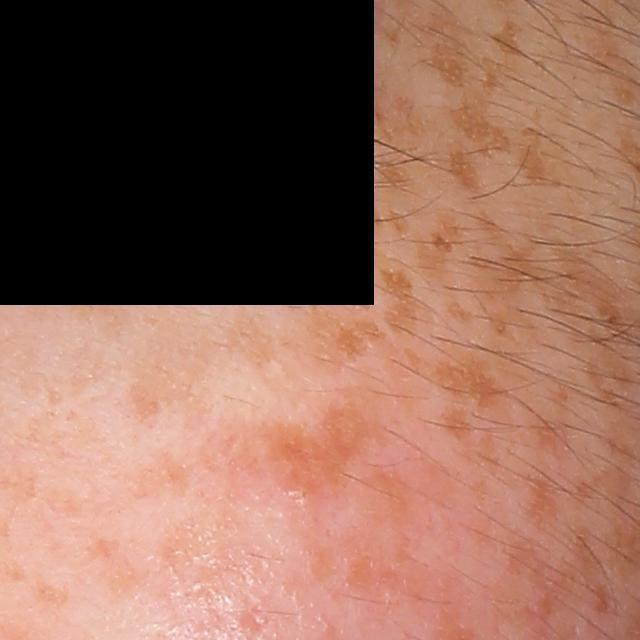melasma: (301, 189, 469, 347), (230, 401, 393, 523), (383, 29, 514, 165), (489, 525, 616, 635), (155, 502, 251, 609), (304, 295, 392, 384), (54, 533, 159, 607), (400, 347, 504, 415), (120, 446, 201, 502), (513, 115, 573, 190), (532, 384, 574, 470), (513, 472, 559, 533), (460, 425, 503, 483), (444, 149, 485, 203), (46, 486, 98, 521), (29, 575, 73, 613), (486, 19, 526, 60), (439, 403, 472, 445)
